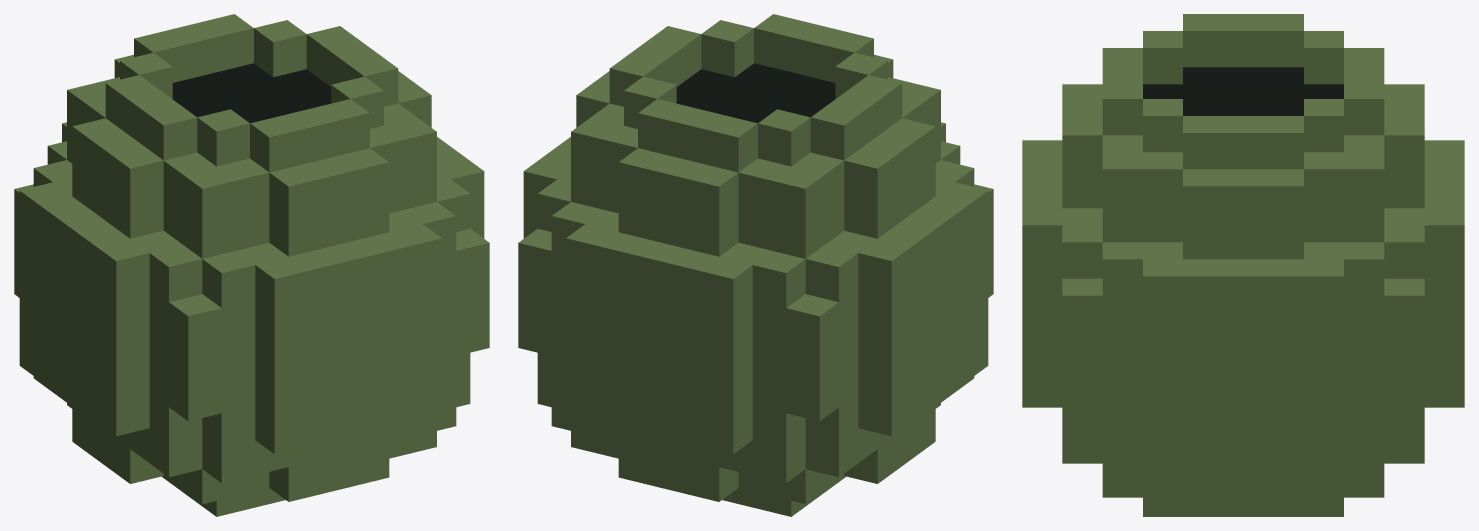
File: Vase_Round_00.fbx
The picture shows the model from 3 angles, left to right: view 1: azimuth 30°, elevation 25°; view 2: azimuth 150°, elevation 25°; view 3: azimuth 270°, elevation 25°; orthographic projection. The views are drawn at different scales.
Parts seen in each view (by area): view 1: Vase_Round_00; view 2: Vase_Round_00; view 3: Vase_Round_00.
Boxes of the visible parts, <box> form: Vase_Round_00: <box>14,14,489,516</box>; Vase_Round_00: <box>518,14,993,516</box>; Vase_Round_00: <box>1022,14,1464,516</box>.
Bounding box in the file's own units: 55 × 55 × 55.
